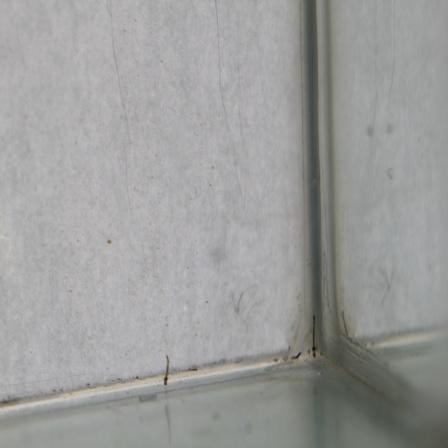Jentik-Nyamuk: (307, 310, 321, 362), (159, 353, 175, 389)
